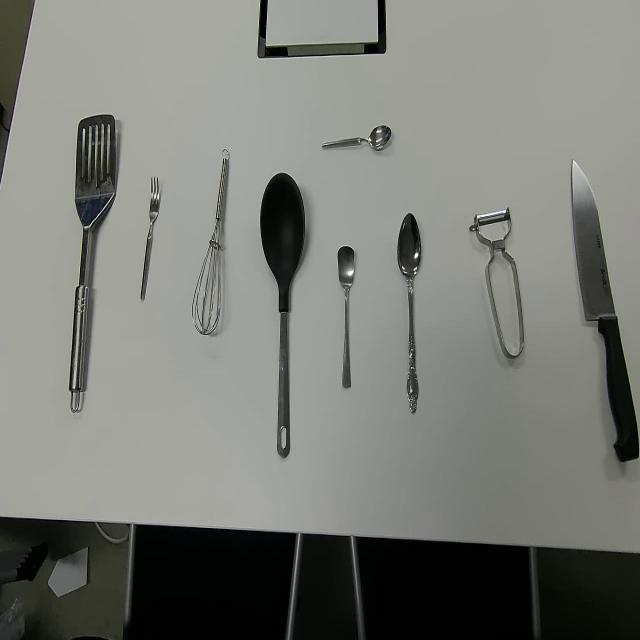Desert-Spoon: (396, 211, 422, 414)
Dinner-Fork: (140, 174, 160, 304)
Kitchen-Knife: (570, 155, 640, 463)
Peeler: (468, 206, 525, 360)
Serving-Spoon: (67, 112, 117, 416), (259, 170, 306, 460)
Tea-Spoon: (336, 244, 356, 390), (321, 124, 392, 153)
Whisk: (191, 147, 230, 337)
